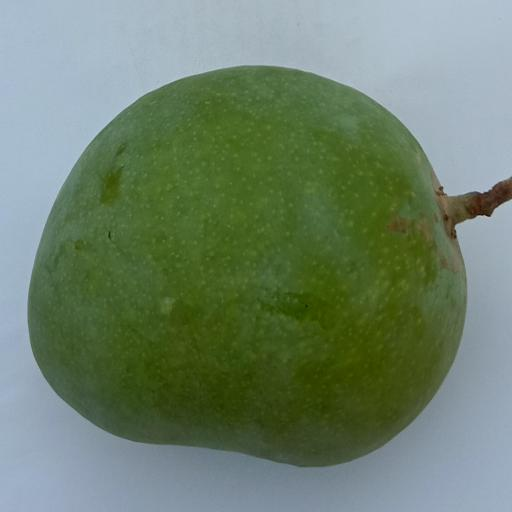mango-unripe: (3, 13, 512, 476)
